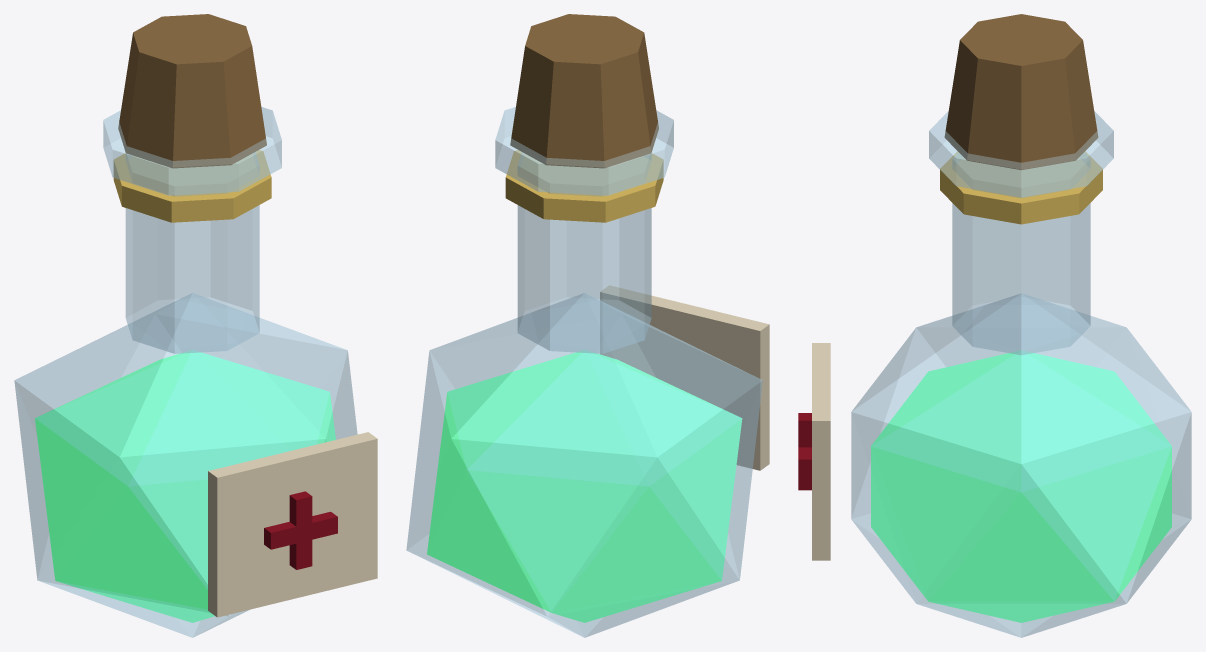
Rendered from potion.glb.
The picture shows the model from 3 angles, left to right: view 1: azimuth 30°, elevation 25°; view 2: azimuth 150°, elevation 25°; view 3: azimuth 270°, elevation 25°; orthographic projection.
Parts seen in each view (by area): view 1: Flask, Liquid, Label, Neck.001, Cork, String, Lip, CrossB, CrossA; view 2: Flask, Liquid, Neck.001, Cork, Label, String, Lip; view 3: Flask, Liquid, Neck.001, Cork, String, Lip, Label, CrossB.
Part boxes in pixels (box(x1,y1,x2,y2)): Flask: box(14, 293, 357, 637); Liquid: box(35, 350, 335, 622); Label: box(208, 432, 377, 617); Neck.001: box(125, 152, 259, 353); Cork: box(118, 14, 266, 168); String: box(113, 150, 271, 222); Lip: box(103, 107, 281, 195); CrossB: box(289, 491, 312, 569); CrossA: box(264, 511, 337, 549); Flask: box(406, 293, 762, 637); Liquid: box(427, 350, 742, 622); Neck.001: box(517, 152, 651, 353); Cork: box(510, 14, 658, 168); Label: box(600, 285, 769, 470); String: box(505, 150, 663, 222); Lip: box(495, 107, 673, 195); Flask: box(851, 293, 1191, 637); Liquid: box(871, 350, 1171, 622); Neck.001: box(952, 152, 1090, 355); Cork: box(944, 14, 1098, 170); String: box(940, 151, 1102, 224); Lip: box(929, 111, 1113, 197); Label: box(812, 343, 830, 560); CrossB: box(798, 413, 811, 490).
Size of the model in its own units: 0.2326 by 0.4285 by 0.2556.
